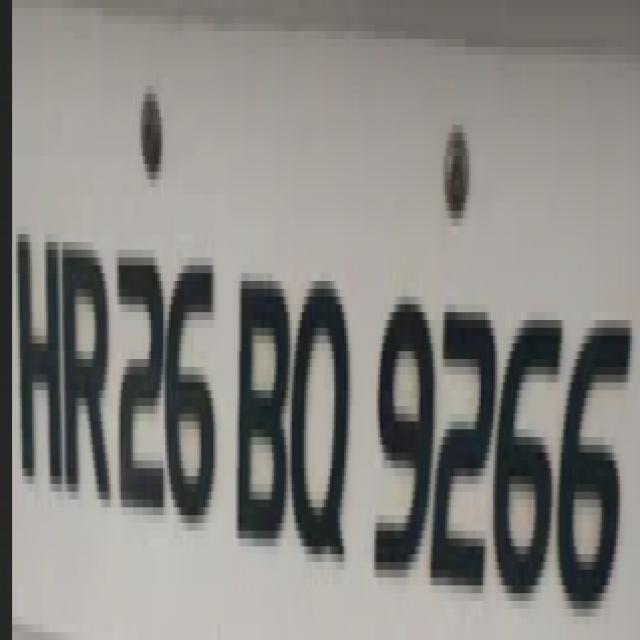2: (429, 291, 501, 599), (115, 240, 166, 516)
6: (549, 305, 638, 631), (487, 313, 567, 615), (166, 245, 216, 528)
9: (371, 282, 434, 588)
B: (236, 262, 290, 560)
H: (15, 222, 60, 496)
Q: (290, 272, 354, 576)
R: (62, 232, 114, 512)
